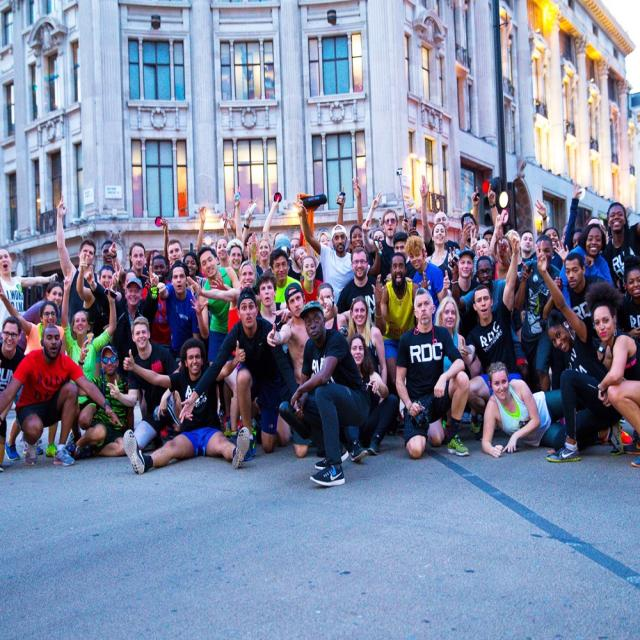body: (177, 284, 306, 463), (529, 240, 625, 464), (119, 333, 252, 477), (0, 320, 126, 470), (290, 298, 372, 488), (456, 230, 525, 444), (480, 360, 624, 459), (391, 285, 471, 460), (264, 278, 340, 460), (186, 258, 262, 438), (459, 233, 521, 437), (583, 279, 640, 470), (59, 268, 119, 448), (189, 244, 242, 440), (294, 204, 384, 309), (64, 341, 138, 462), (370, 250, 432, 386), (105, 314, 182, 422), (513, 233, 562, 393), (342, 332, 400, 462), (255, 269, 295, 445), (55, 192, 102, 334), (542, 250, 608, 341), (432, 293, 467, 447), (155, 258, 202, 366), (0, 247, 59, 333), (558, 222, 616, 308), (0, 314, 27, 473), (12, 278, 66, 354), (336, 245, 387, 325), (112, 275, 155, 369), (599, 200, 640, 296), (197, 186, 259, 249), (346, 295, 388, 387), (404, 234, 445, 326), (418, 173, 461, 258), (76, 251, 116, 341), (15, 280, 65, 351), (362, 208, 408, 283), (143, 253, 173, 354), (259, 247, 304, 311), (489, 209, 523, 282), (613, 252, 640, 339), (439, 248, 481, 300), (424, 221, 454, 291), (383, 230, 418, 283), (180, 250, 208, 308), (458, 211, 482, 277), (260, 191, 282, 248), (299, 255, 324, 305), (124, 241, 150, 289), (145, 216, 169, 268), (563, 190, 585, 246), (533, 197, 560, 241), (481, 182, 499, 245), (516, 228, 536, 276), (284, 236, 304, 283), (254, 236, 274, 282), (225, 237, 245, 279), (286, 237, 304, 281), (345, 224, 367, 254), (352, 174, 364, 228), (214, 234, 231, 271), (165, 237, 185, 267), (398, 211, 420, 236), (100, 238, 116, 268), (369, 217, 386, 239), (503, 228, 520, 244)
